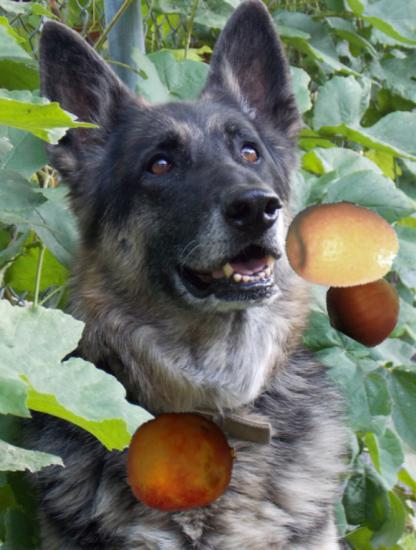Kumquats: (284, 187, 401, 304)
Nut: (324, 267, 402, 345)
Peach: (123, 405, 236, 518)
